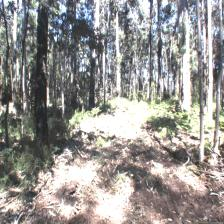trunktrack_idkeyframe: (33, 44, 48, 134), (213, 81, 221, 146), (88, 58, 96, 107), (199, 88, 204, 160)
